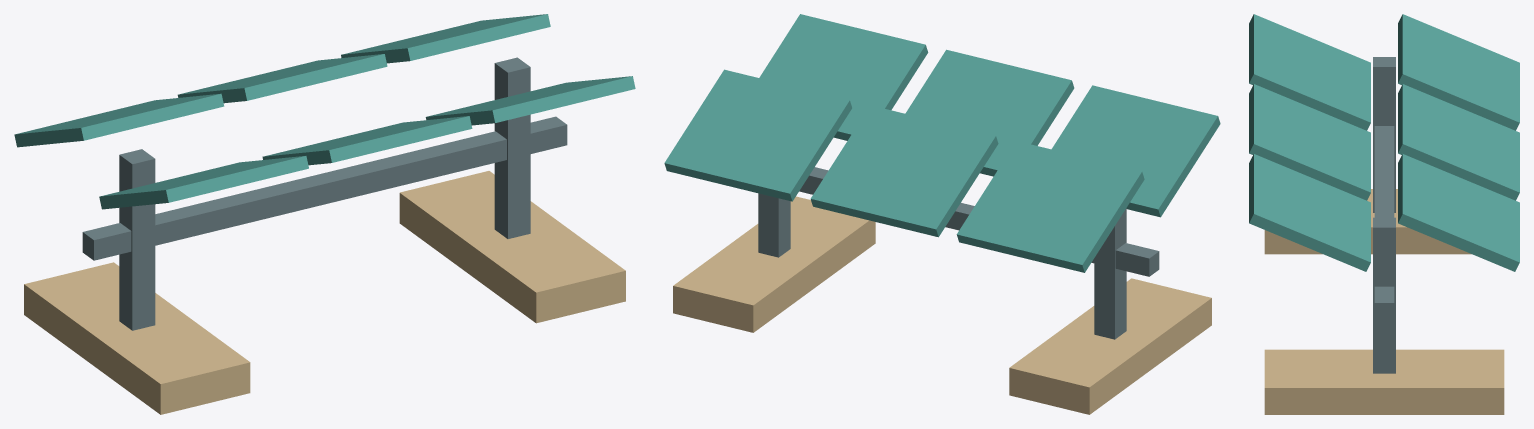
The model's file is SolarPanels.glb.
3 views of the same model, side by side, from view 1: azimuth 30°, elevation 25°; view 2: azimuth 150°, elevation 25°; view 3: azimuth 270°, elevation 25° (orthographic). The views are drawn at different scales.
Parts seen in each view (by area): view 1: hand-pump-static-solar-concrete, hand-pump-static-solar-frame-steel, hand-pump-static-solar-panel-blue; view 2: hand-pump-static-solar-panel-blue, hand-pump-static-solar-concrete, hand-pump-static-solar-frame-steel; view 3: hand-pump-static-solar-panel-blue, hand-pump-static-solar-concrete, hand-pump-static-solar-frame-steel.
Part boxes in pixels (bbox=[...]): hand-pump-static-solar-concrete: bbox=[24, 171, 625, 414]; hand-pump-static-solar-frame-steel: bbox=[82, 57, 567, 330]; hand-pump-static-solar-panel-blue: bbox=[14, 14, 635, 209]; hand-pump-static-solar-panel-blue: bbox=[664, 14, 1220, 272]; hand-pump-static-solar-concrete: bbox=[673, 196, 1211, 414]; hand-pump-static-solar-frame-steel: bbox=[758, 167, 1159, 339]; hand-pump-static-solar-panel-blue: bbox=[1249, 14, 1519, 271]; hand-pump-static-solar-concrete: bbox=[1264, 189, 1504, 414]; hand-pump-static-solar-frame-steel: bbox=[1373, 57, 1395, 373].
Bounding box in the file's own units: 2.9 × 1.34 × 1.64.
